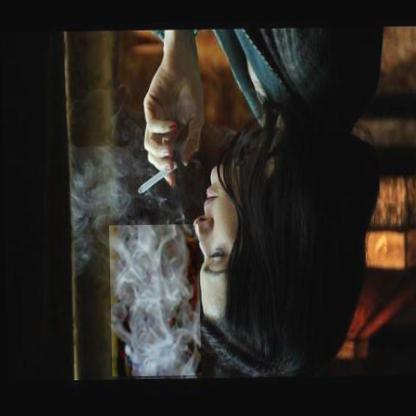smoke: (108, 225, 200, 377), (70, 146, 134, 217)
